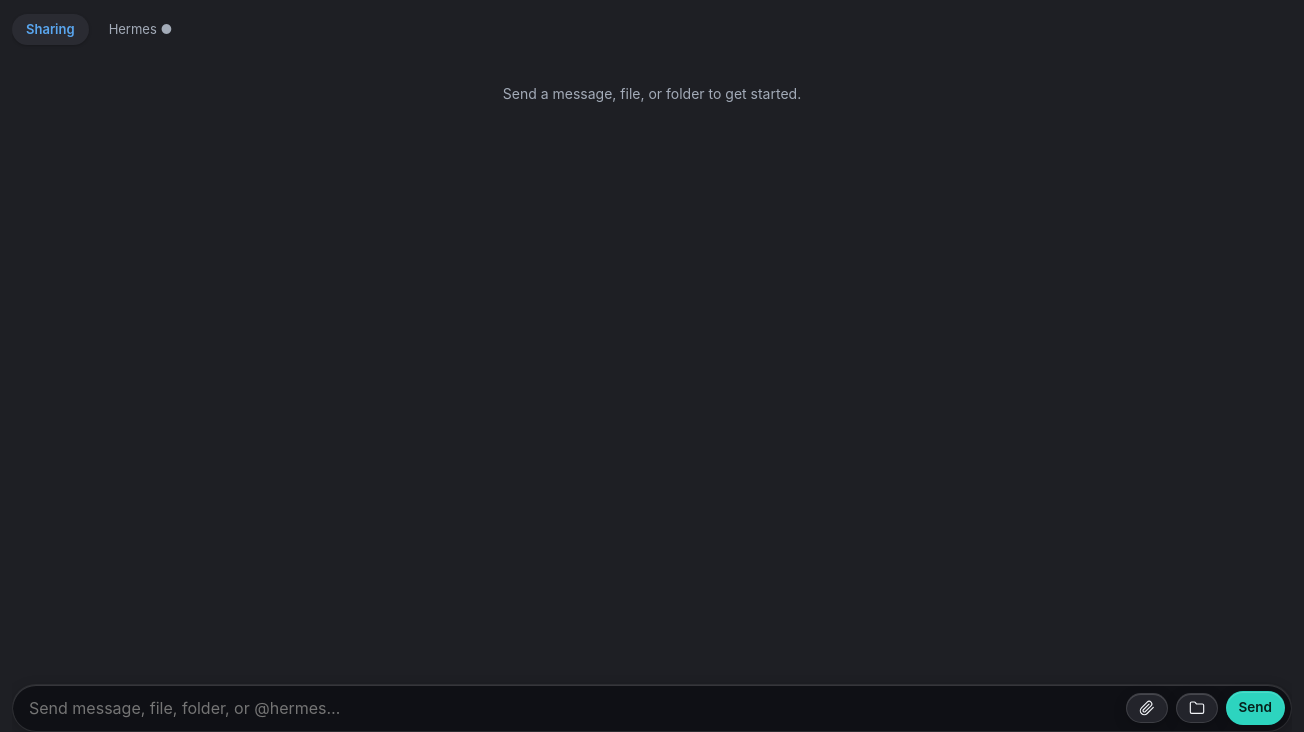
it: ChatPanel › renders a Hermes bot bubble (with a streaming indicator)
// The bot conversation lives on the Hermes tab — switch to it, then the content is visible.
Click the button "Hermes ●" at point(140, 30), box [95,14,186,45]
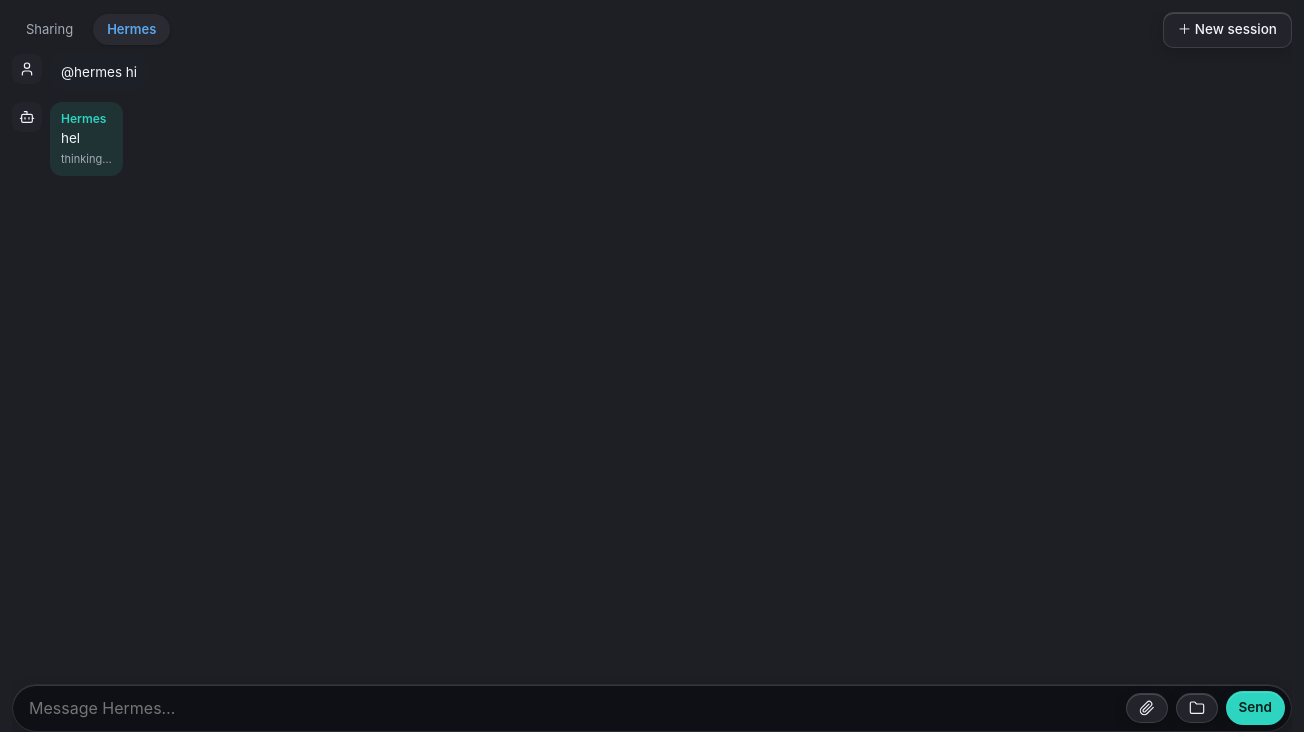
Check: the text "hel" is shown, box [61,130,80,146]
Check: the text "thinking…" is shown, box [61,151,112,168]
